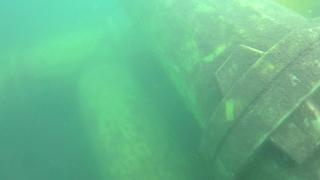pipe: (125, 1, 320, 180), (75, 62, 200, 180), (1, 21, 127, 88)
